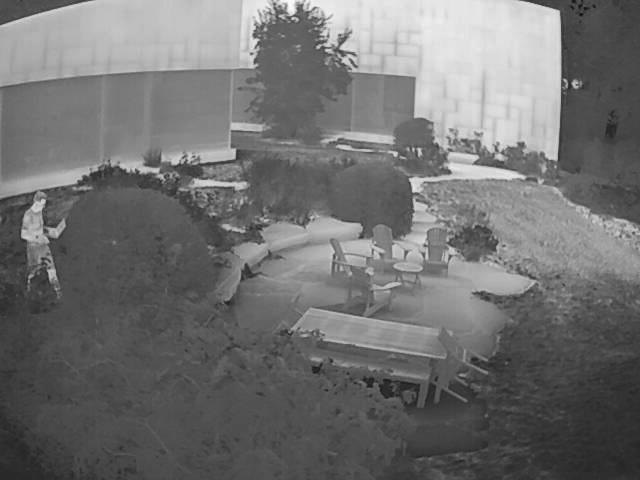person: (20, 192, 62, 310)
